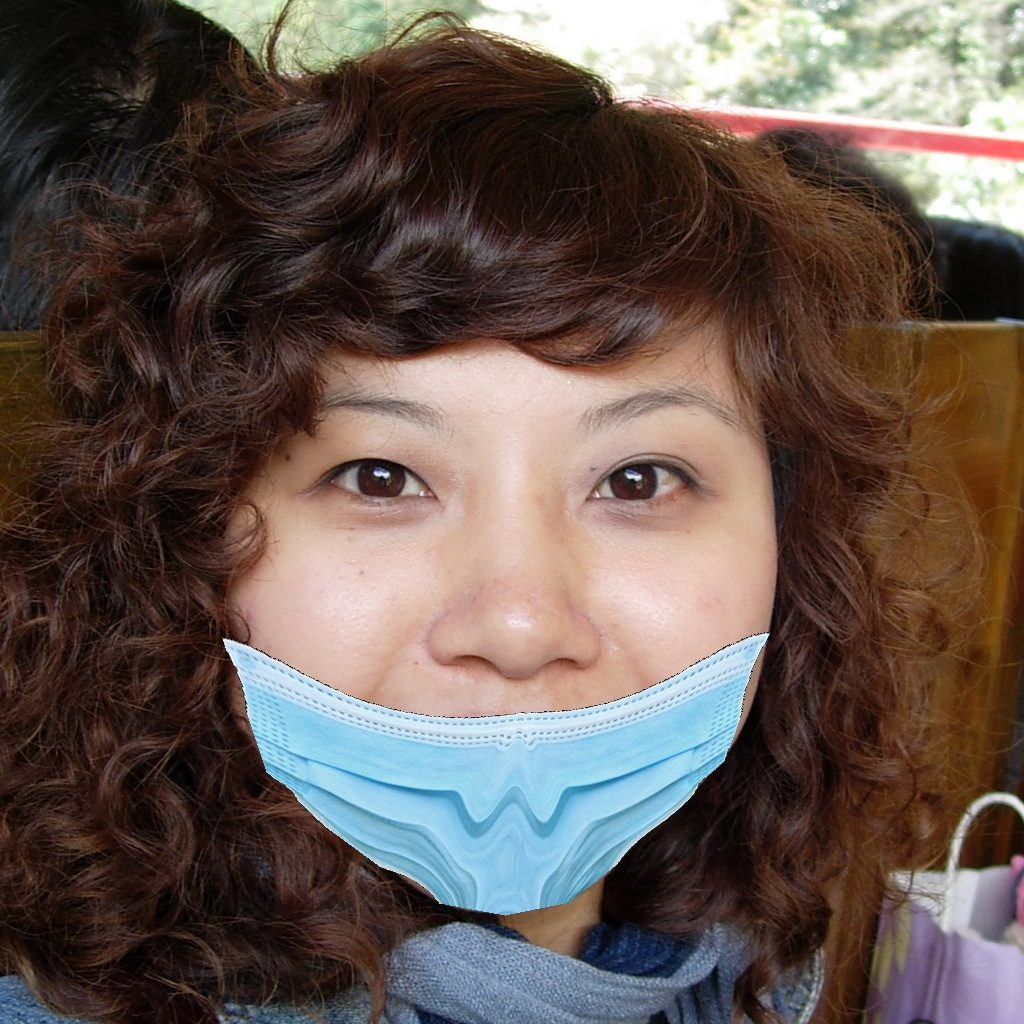mascarilla_mal_puesta: (269, 390, 754, 885)
